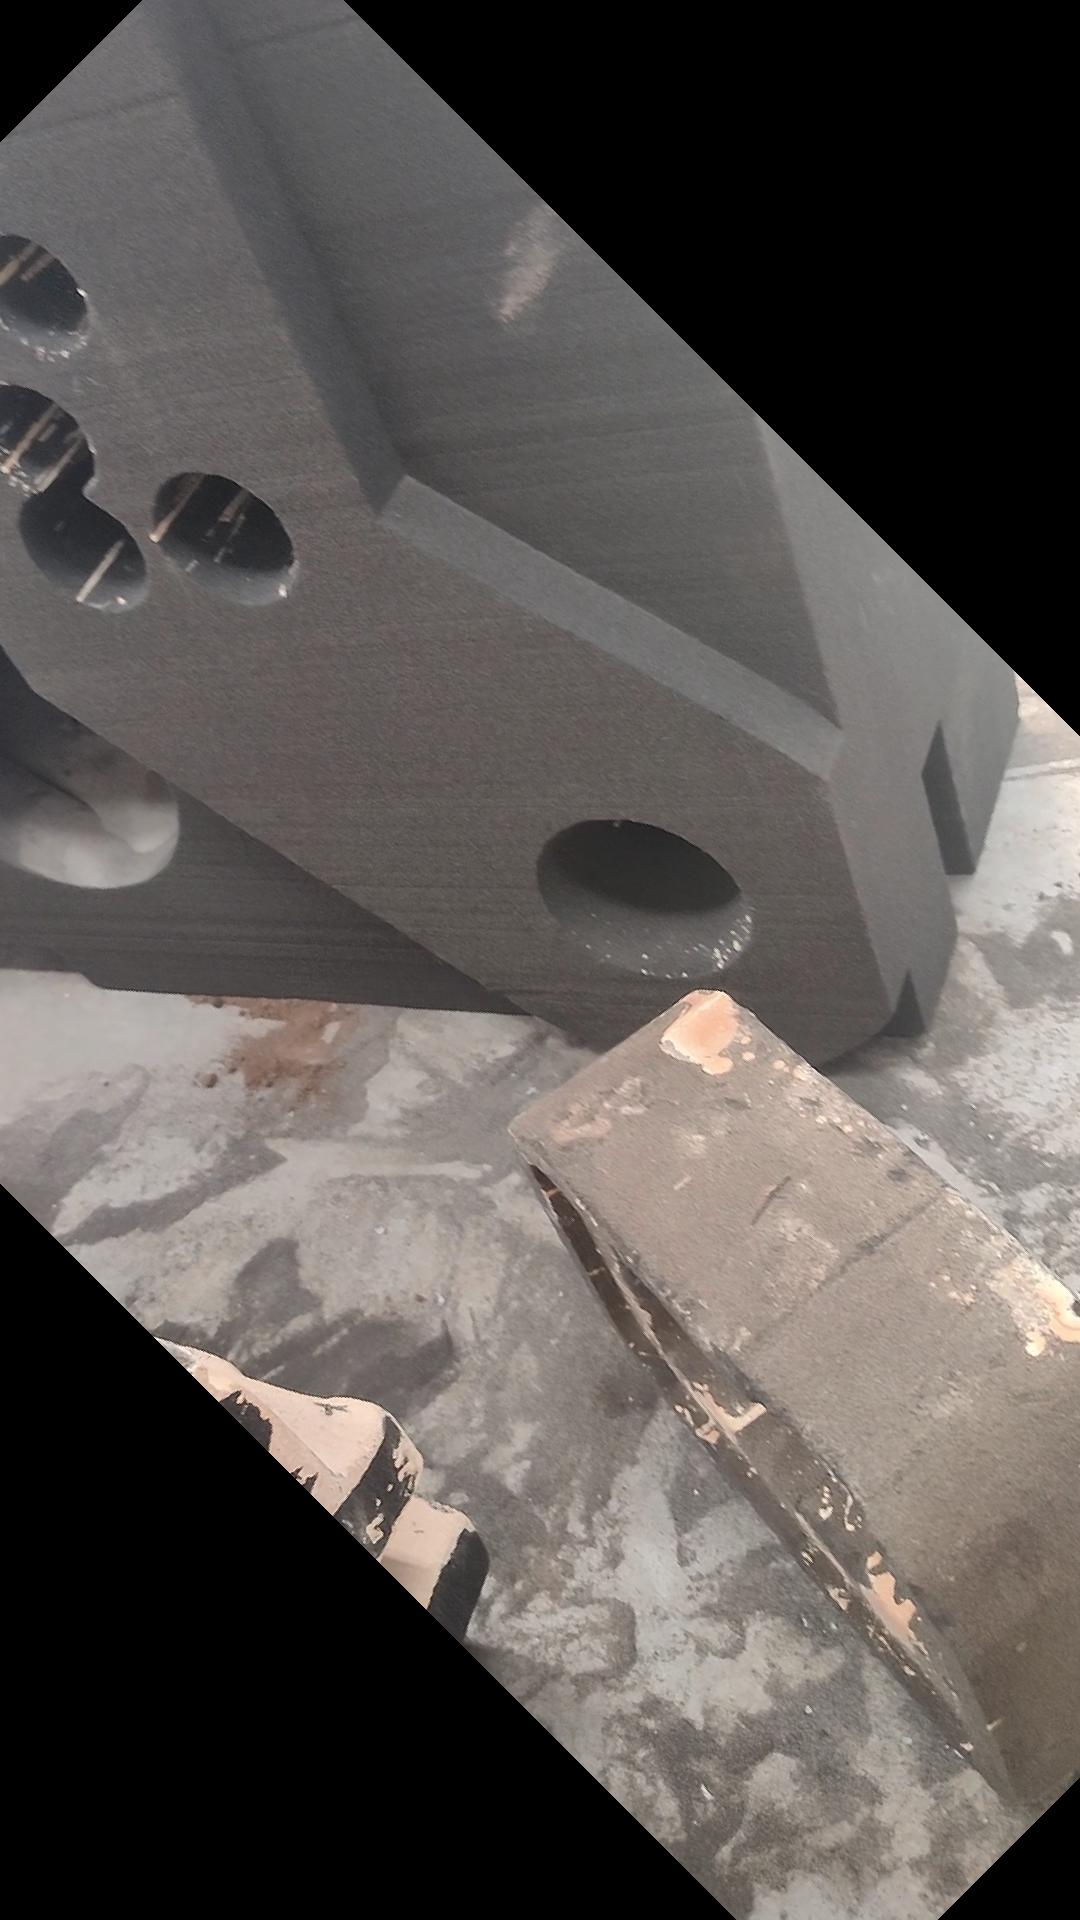pouring hole: (531, 816, 752, 982)
